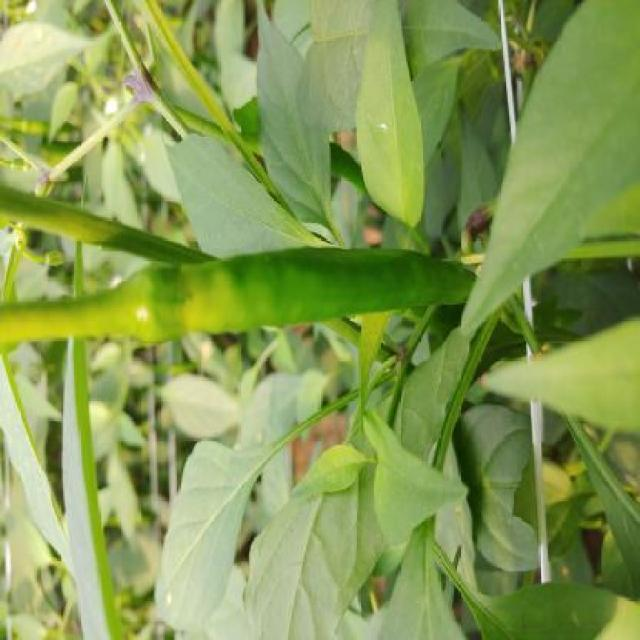green chilli: (92, 246, 478, 349)
